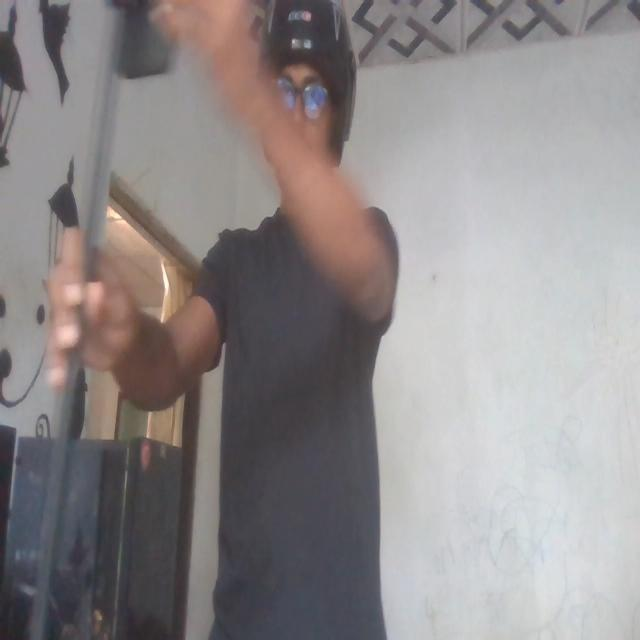Helmet_Wearer: (247, 0, 359, 230)
Person: (184, 0, 416, 640)
